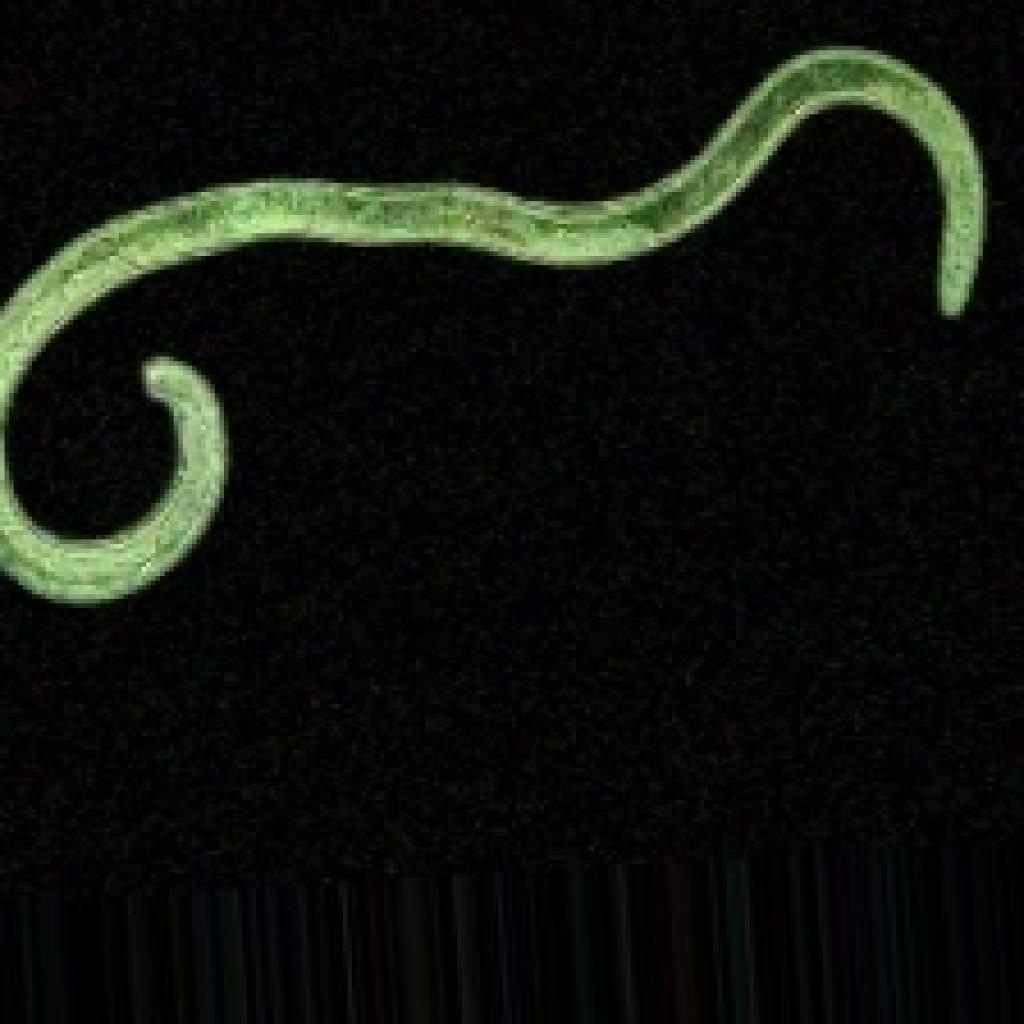Nematode: (0, 32, 992, 613)
